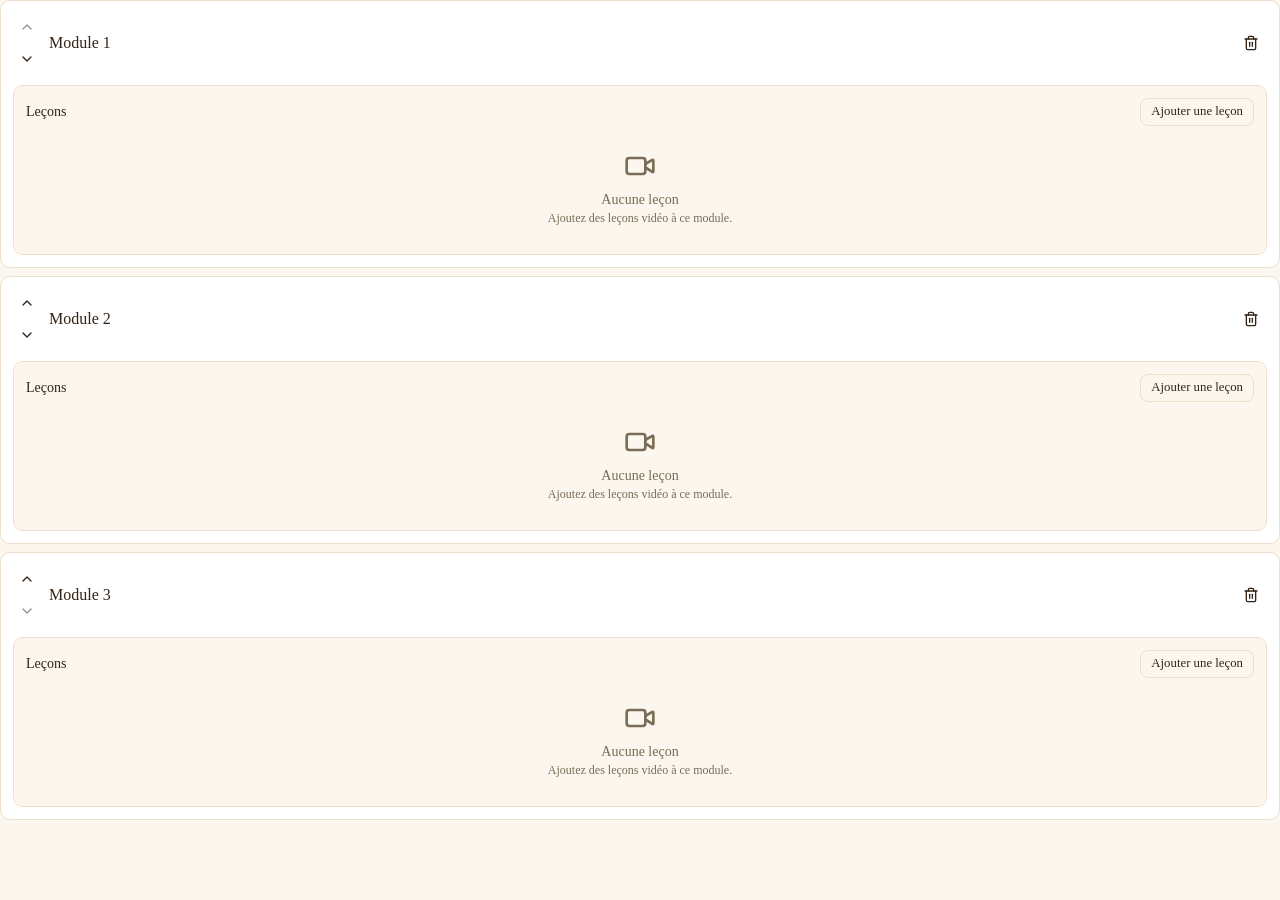
Test: Module UI Integration › ModuleList › should open delete confirmation dialog
Click the 1st button named "Supprimer le module": click(1251, 43) [1235,27,1267,59]
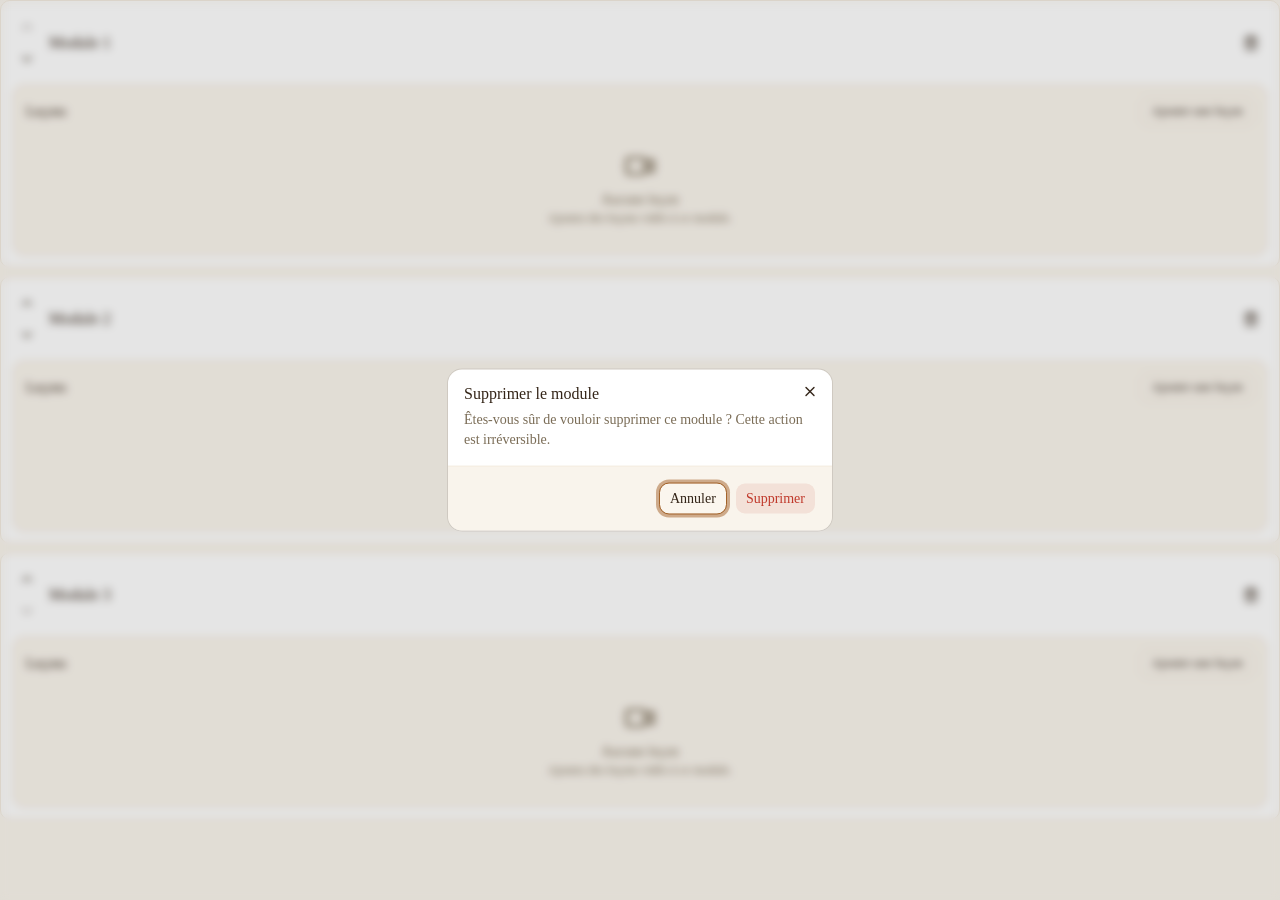
Expected: the heading "Supprimer le module" is shown, [464,384,599,402]
Expected: the text "irréversible" is shown, [464,412,803,446]
